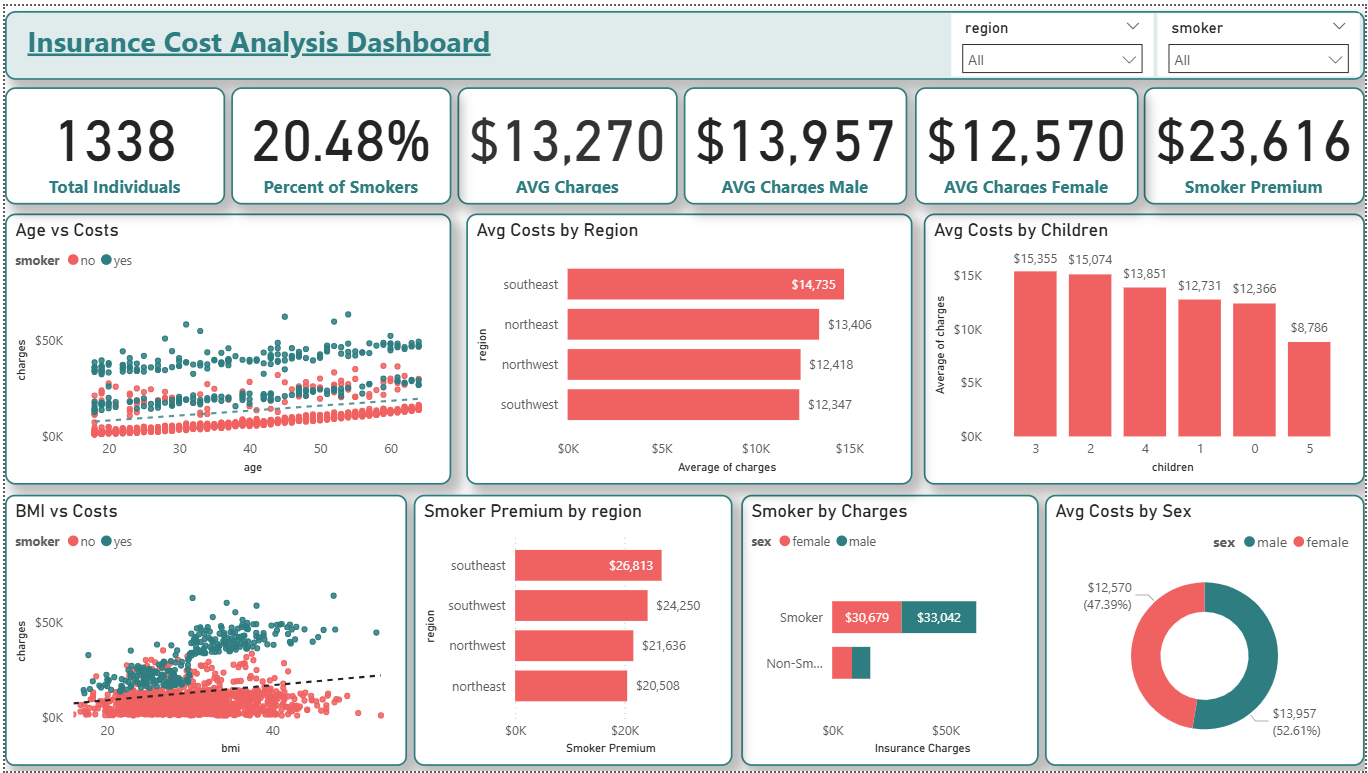

What the dashboard file says about the page in this screenshot:
{"tool":"powerbi","page":{"name":"Insurance Report","canvas":[1280,720],"ordinal":0},"visuals":[{"type":"scatterChart","title":"Age vs Costs","fields":{"X":["insurance.age"],"Y":["insurance.charges"],"Series":["insurance.smoker"]},"box":[0,195,420,255],"z":0},{"type":"columnChart","title":"Avg Costs by Children","fields":{"Y":["Avg(insurance.charges)"],"Category":["insurance.children"]},"box":[865,195,415,255],"z":1000},{"type":"scatterChart","title":"BMI vs Costs","fields":{"X":["insurance.bmi"],"Y":["insurance.charges"],"Series":["insurance.smoker"]},"box":[0,460,378,255],"z":2000},{"type":"barChart","title":"Smoker by Charges","fields":{"Category":["insurance.SmokerLabel"],"Y":["Avg(insurance.charges)"],"Series":["insurance.sex"]},"box":[693,460,280.2,255],"z":3000},{"type":"donutChart","title":"Avg Costs by Sex","fields":{"Category":["insurance.sex"],"Y":["Avg(insurance.charges)"]},"box":[979.1,460,301.2,255],"z":4000},{"type":"textbox","box":[0,5,1280,65],"z":5000},{"type":"card","fields":{"Values":["Avg(insurance.charges)"]},"box":[426,77,207,110],"z":6000},{"type":"card","title":"Total Individuals","fields":{"Values":["insurance.Total Individuals"]},"box":[0,77,207,110],"z":7000},{"type":"card","fields":{"Values":["insurance.Percentage of Smokers"]},"box":[213,77,207,110],"z":8000},{"type":"barChart","title":"Avg Costs by Region","fields":{"Category":["insurance.region"],"Y":["Avg(insurance.charges)"]},"box":[434,195,420,255],"z":9000},{"type":"card","fields":{"Values":["insurance.Average Charges Male"]},"box":[639,77,210,110],"z":10000},{"type":"card","fields":{"Values":["insurance.Smoker Premium"]},"box":[1072,77,208,110],"z":11000},{"type":"barChart","fields":{"Y":["insurance.Smoker Premium"],"Category":["insurance.region"]},"box":[385,460,300,255],"z":12000},{"type":"card","fields":{"Values":["insurance.Average Charges Female"]},"box":[856,77,210,110],"z":13000},{"type":"slicer","fields":{"Values":["insurance.smoker"]},"box":[1085,7,190,59],"z":14000},{"type":"slicer","fields":{"Values":["insurance.region"]},"box":[890,7,190,59],"z":15000}]}

Visuals, with their boxes in screenshot pixels (x1, y1, x2, y2), scaled from the page's 1280x720 canvas onto the 1368x773 screenshot:
"Age vs Costs" scatterChart: crop(0, 209, 449, 483)
"Avg Costs by Children" columnChart: crop(924, 209, 1367, 483)
"BMI vs Costs" scatterChart: crop(0, 494, 404, 768)
"Smoker by Charges" barChart: crop(741, 494, 1040, 768)
"Avg Costs by Sex" donutChart: crop(1046, 494, 1367, 768)
textbox: crop(0, 5, 1367, 75)
card - Avg(insurance.charges): crop(455, 83, 677, 201)
"Total Individuals" card: crop(0, 83, 221, 201)
card - insurance.Percentage of Smokers: crop(228, 83, 449, 201)
"Avg Costs by Region" barChart: crop(464, 209, 913, 483)
card - insurance.Average Charges Male: crop(683, 83, 907, 201)
card - insurance.Smoker Premium: crop(1146, 83, 1367, 201)
barChart - insurance.Smoker Premium x insurance.region: crop(411, 494, 732, 768)
card - insurance.Average Charges Female: crop(915, 83, 1139, 201)
slicer - insurance.smoker: crop(1160, 8, 1363, 71)
slicer - insurance.region: crop(951, 8, 1154, 71)
